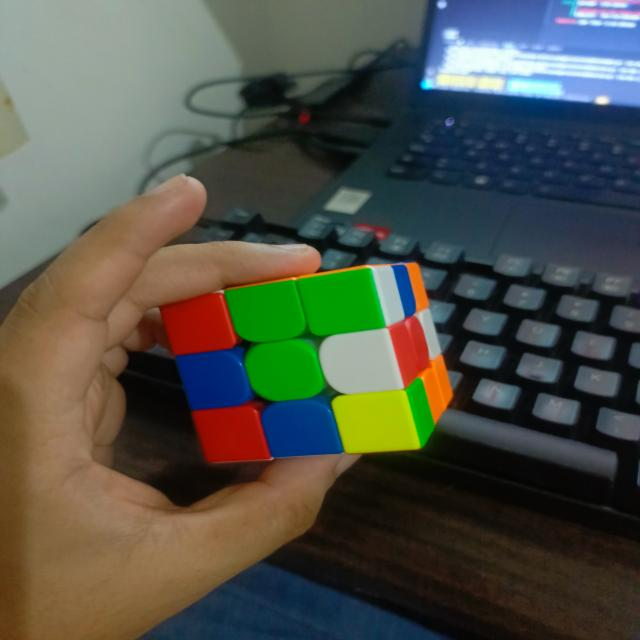rubik: (157, 259, 456, 464)
